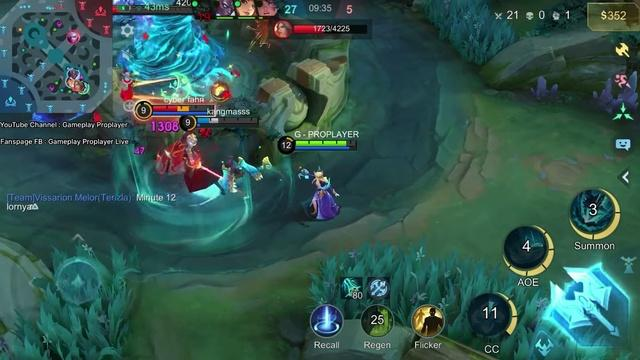Adc_Aliado: (67, 68, 80, 79)
Arbusto: (307, 245, 544, 360), (0, 248, 133, 360), (416, 0, 515, 65)
Exp_Enemigo: (67, 32, 77, 44)
HP_Aliado: (199, 115, 256, 125)
HP_Enemigo: (154, 105, 211, 111)
HP_Heroe_Principal: (294, 141, 357, 146)
Hechizo_Batalla: (412, 305, 444, 337)
Jungla_Aliado: (66, 74, 76, 88)
Jungla_Enemigo: (73, 80, 80, 93)
Lancelot: (155, 129, 227, 183)
Lord: (113, 15, 233, 101)
Mana: (196, 123, 258, 128), (153, 110, 212, 115), (295, 146, 357, 150)
Matilda: (210, 153, 266, 196)
Mid_Aliado: (80, 82, 89, 94)
Minimapa: (0, 0, 111, 112)
Roamer_Enemigo: (72, 30, 82, 43)
Vexana: (303, 169, 339, 220)
